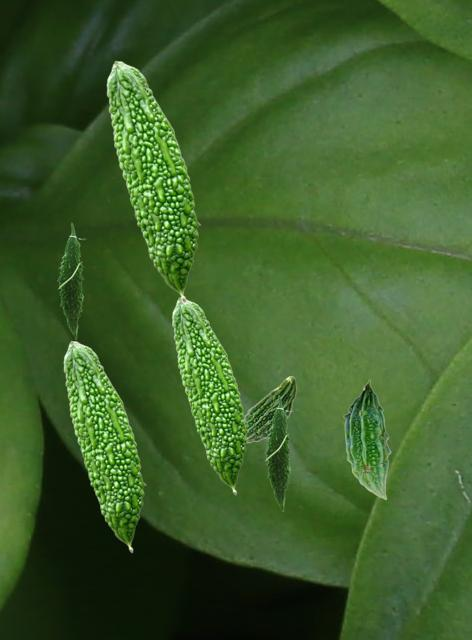ampalaya: (106, 60, 201, 303), (63, 340, 146, 553), (171, 297, 249, 495), (342, 379, 391, 500), (56, 222, 87, 340), (263, 394, 294, 512), (244, 375, 297, 443)
